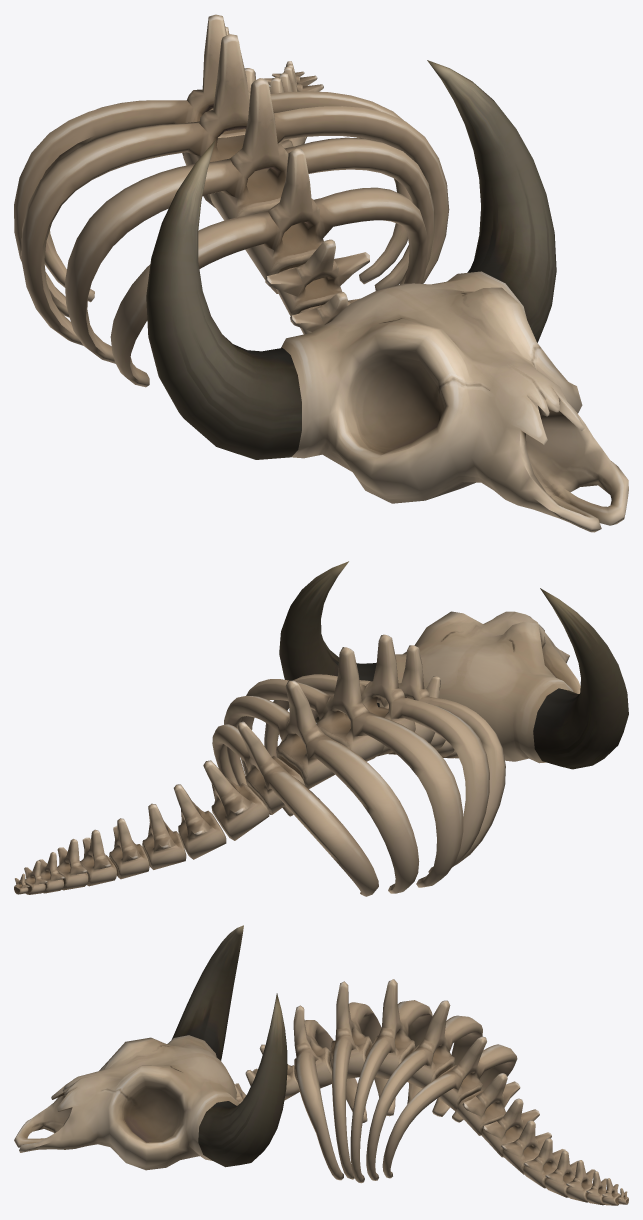
File: DE_Skeleton_01.fbx
3 renders of one model, top to bottom at view 1: azimuth 30°, elevation 25°; view 2: azimuth 150°, elevation 25°; view 3: azimuth 270°, elevation 25°, orthographic. The views are drawn at different scales.
Parts seen in each view (by area): view 1: DE_Skeleton_01; view 2: DE_Skeleton_01; view 3: DE_Skeleton_01.
Part boxes in pixels (x1=…): DE_Skeleton_01: x1=14, y1=14, x2=628, y2=532; DE_Skeleton_01: x1=14, y1=561, x2=628, y2=896; DE_Skeleton_01: x1=14, y1=925, x2=628, y2=1205.
Bounding box in the file's own units: 2.85 × 1.77 × 5.2.
